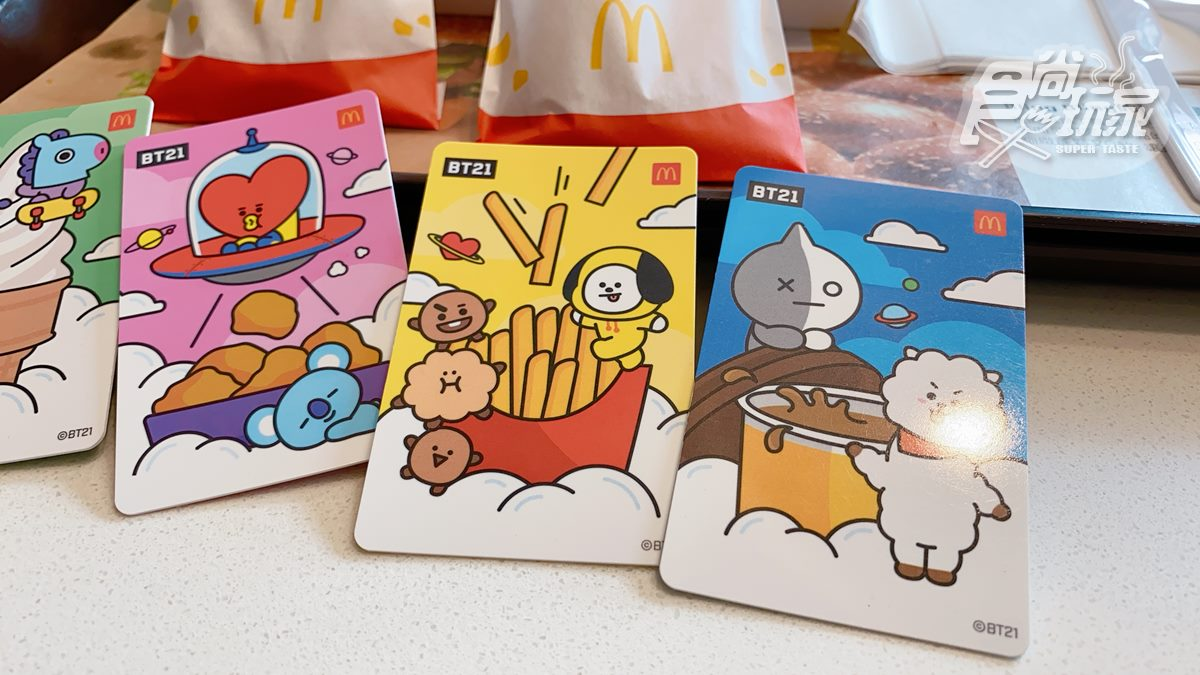card: (114, 92, 423, 500)
